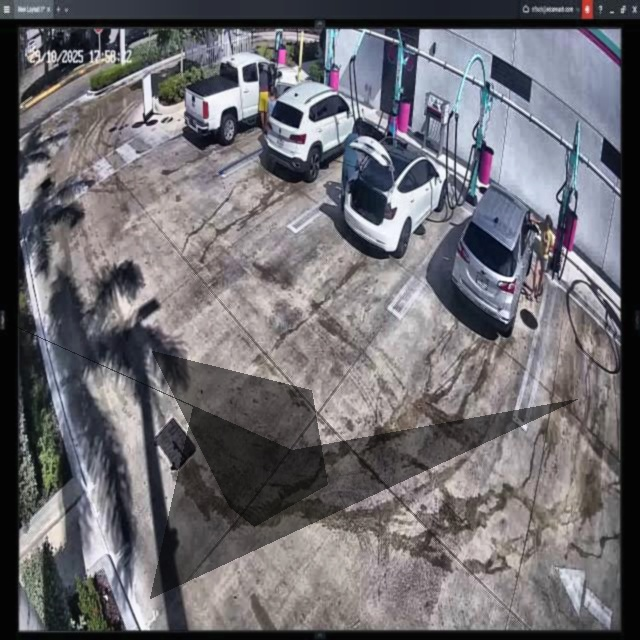Car: (341, 130, 447, 261), (449, 184, 538, 337), (258, 80, 362, 183)
